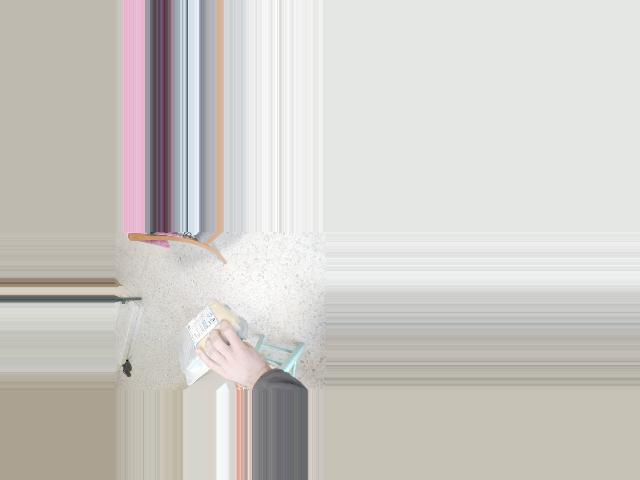cheese: (180, 301, 242, 383)
